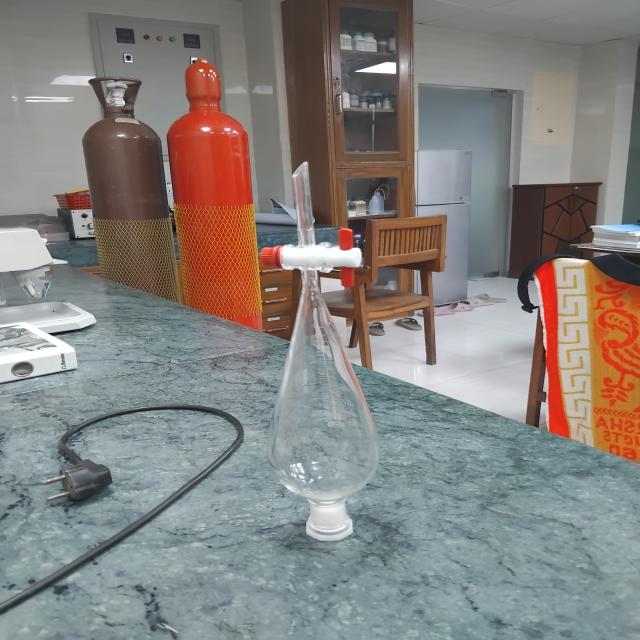Separating_Funnel: (225, 135, 420, 565)
